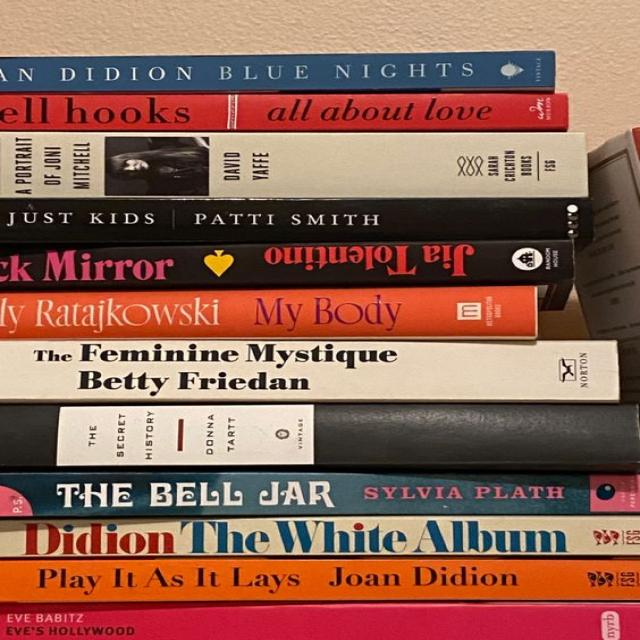book: (0, 404, 639, 470), (0, 241, 571, 309), (0, 340, 620, 402), (0, 133, 587, 197), (0, 471, 639, 518), (0, 557, 639, 603), (0, 286, 537, 340), (0, 198, 590, 243), (0, 517, 639, 557), (0, 603, 639, 639), (0, 51, 555, 92), (0, 93, 567, 131)
